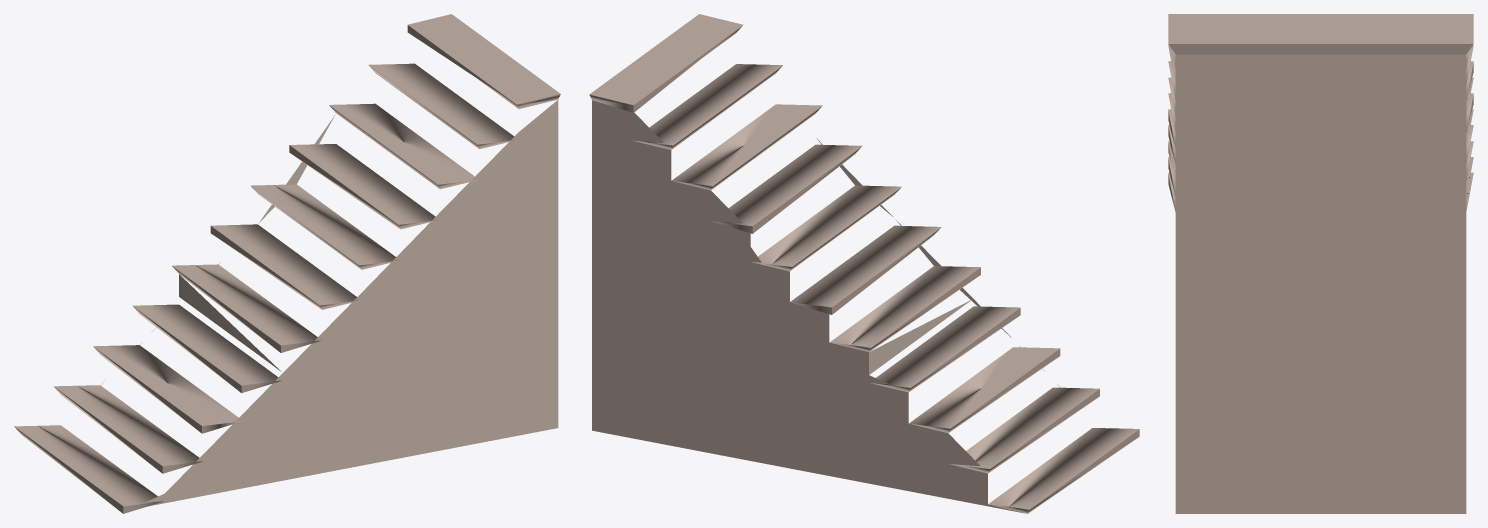
File: stairs.glb
The picture shows the model from 3 angles, left to right: view 1: azimuth 30°, elevation 25°; view 2: azimuth 150°, elevation 25°; view 3: azimuth 270°, elevation 25°; orthographic projection. The views are drawn at different scales.
Parts seen in each view (by area): view 1: stairs(Clone); view 2: stairs(Clone); view 3: stairs(Clone).
Part boxes in pixels (x1,y1,x2,y2): stairs(Clone): (14,14,560,513); stairs(Clone): (589,14,1139,513); stairs(Clone): (1168,14,1473,513).
Bounding box in the file's own units: 1.82 × 1.34 × 0.7886.
